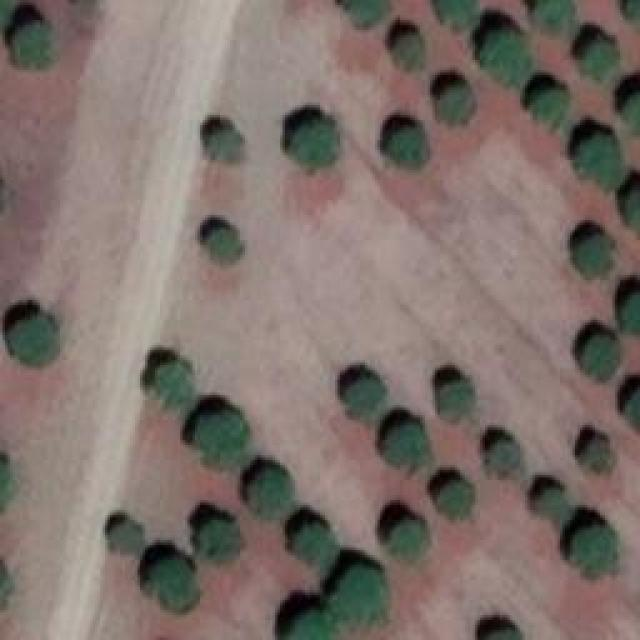Tree: (567, 130, 625, 190), (325, 563, 388, 618), (195, 410, 253, 465), (568, 525, 621, 578), (143, 558, 198, 608), (475, 33, 528, 83), (8, 317, 63, 365), (245, 465, 295, 515), (10, 18, 53, 73), (385, 422, 430, 470), (575, 335, 620, 383), (287, 120, 335, 165), (523, 0, 578, 38), (385, 517, 428, 565), (195, 520, 243, 563), (385, 125, 433, 168), (290, 523, 335, 568), (150, 360, 195, 403), (525, 88, 570, 131), (343, 375, 383, 423), (282, 610, 340, 640), (435, 478, 475, 521), (578, 233, 618, 276), (482, 438, 520, 478), (200, 228, 243, 263), (208, 128, 248, 163), (438, 85, 473, 125), (438, 380, 473, 418), (393, 33, 426, 73), (578, 440, 613, 475), (578, 35, 613, 70), (435, 0, 478, 28), (530, 488, 565, 521), (620, 88, 640, 141), (337, 0, 382, 22), (108, 522, 143, 550), (620, 290, 640, 338), (0, 455, 15, 510), (622, 390, 640, 433), (622, 0, 640, 30)
